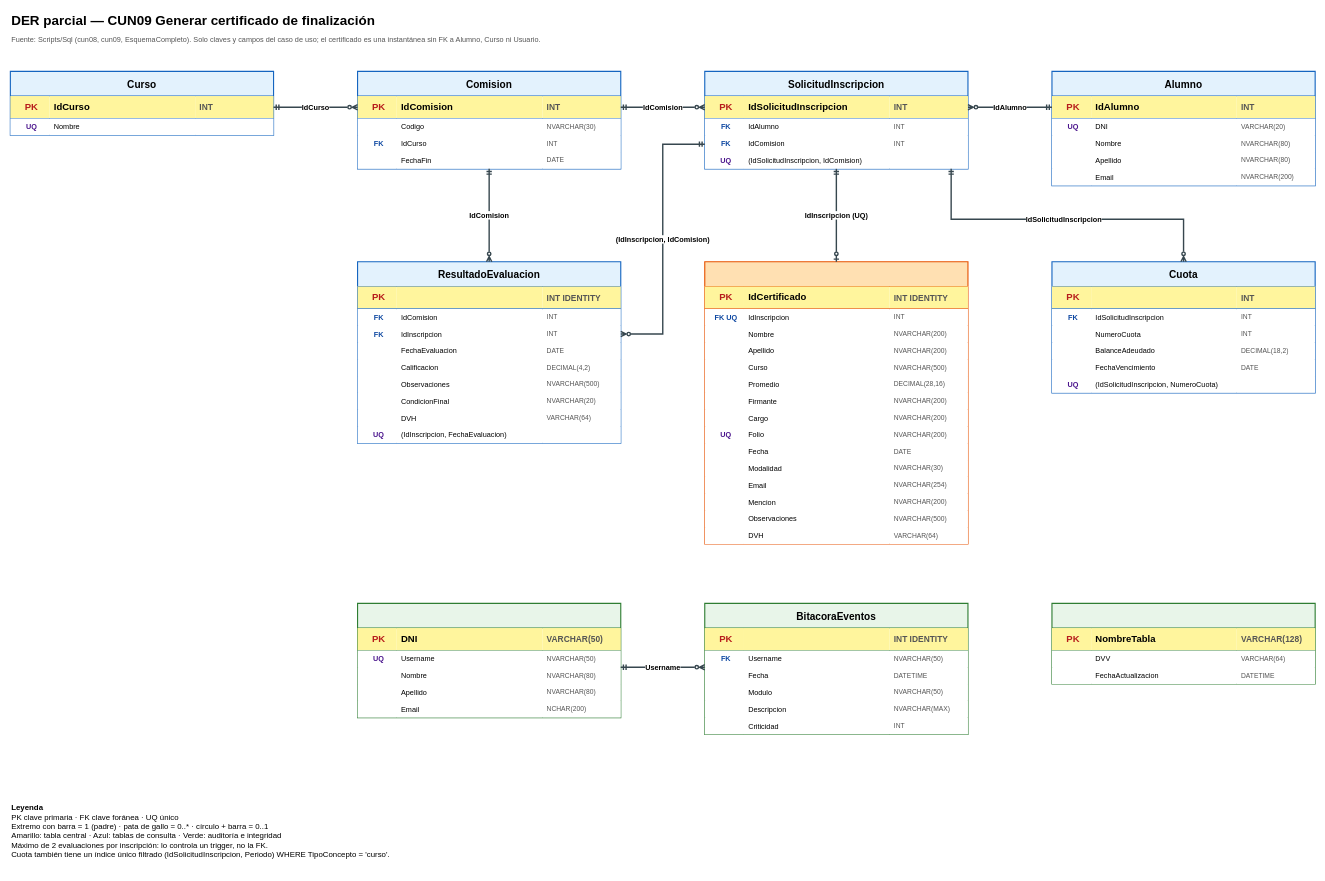
Some shapes in this 1325 by 881 pixel diagram are drawn without their labels. Here are the shapes that lost their labels. From the top down, the box of each, then its label:
(195, 118, 273, 135): NVARCHAR(100)
(396, 286, 542, 309): IdResultadoEvaluacion
(1091, 286, 1236, 309): IdCuota
(704, 261, 968, 544): CertificadoFinalizacion
(744, 628, 889, 650): Id
(1051, 603, 1315, 684): DigitoVerificador_83KI
(357, 603, 621, 718): Usuarios
